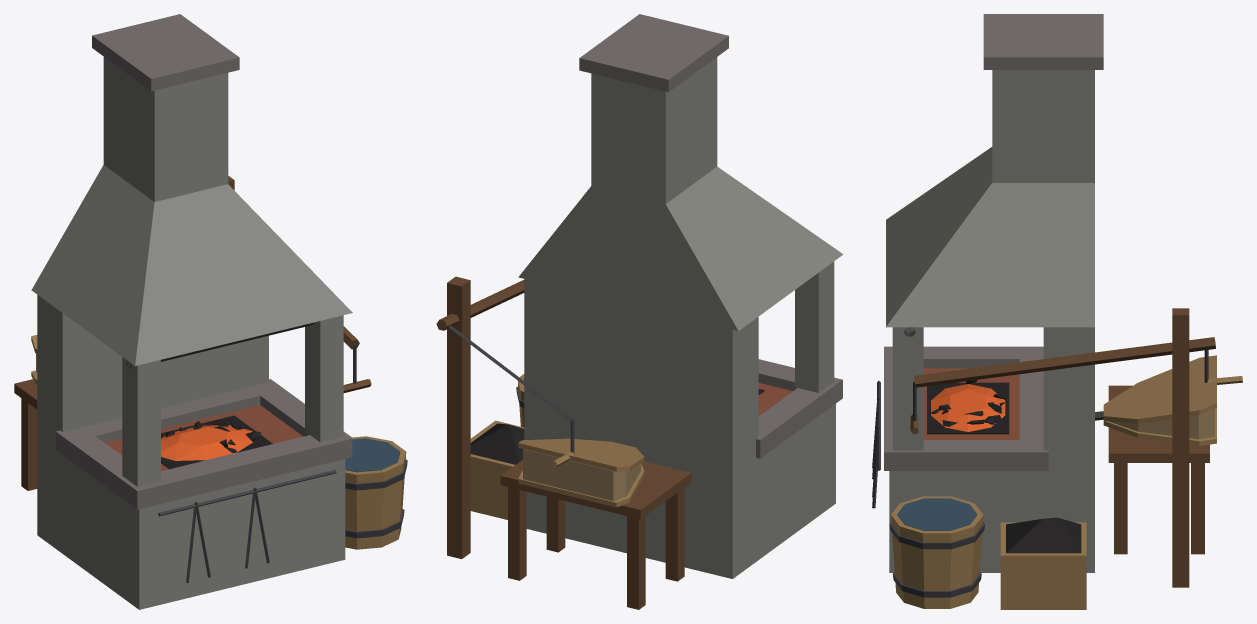
Rendered from Forge.fbx.
3 views of the same model, side by side, from view 1: azimuth 30°, elevation 25°; view 2: azimuth 150°, elevation 25°; view 3: azimuth 270°, elevation 25° (orthographic).
Parts seen in each view (by area): view 1: Forge; view 2: Forge; view 3: Forge.
Boxes of the visible parts, x1=… form: Forge: x1=14, y1=14, x2=407, y2=609; Forge: x1=436, y1=14, x2=843, y2=609; Forge: x1=872, y1=14, x2=1242, y2=609.
Bounding box in the file's own units: 1.98 × 3.13 × 2.16.
